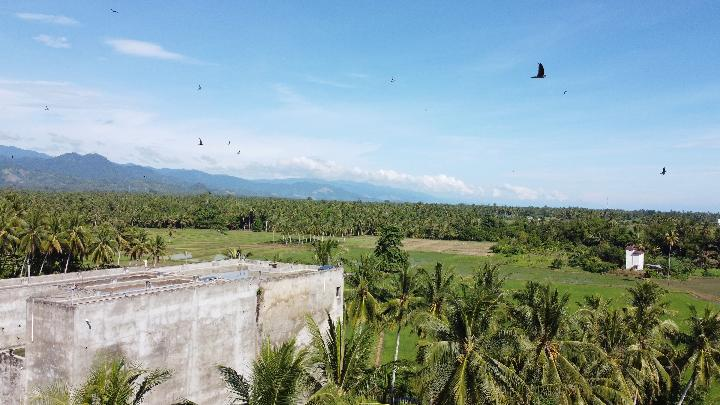walet: (532, 64, 546, 82)
